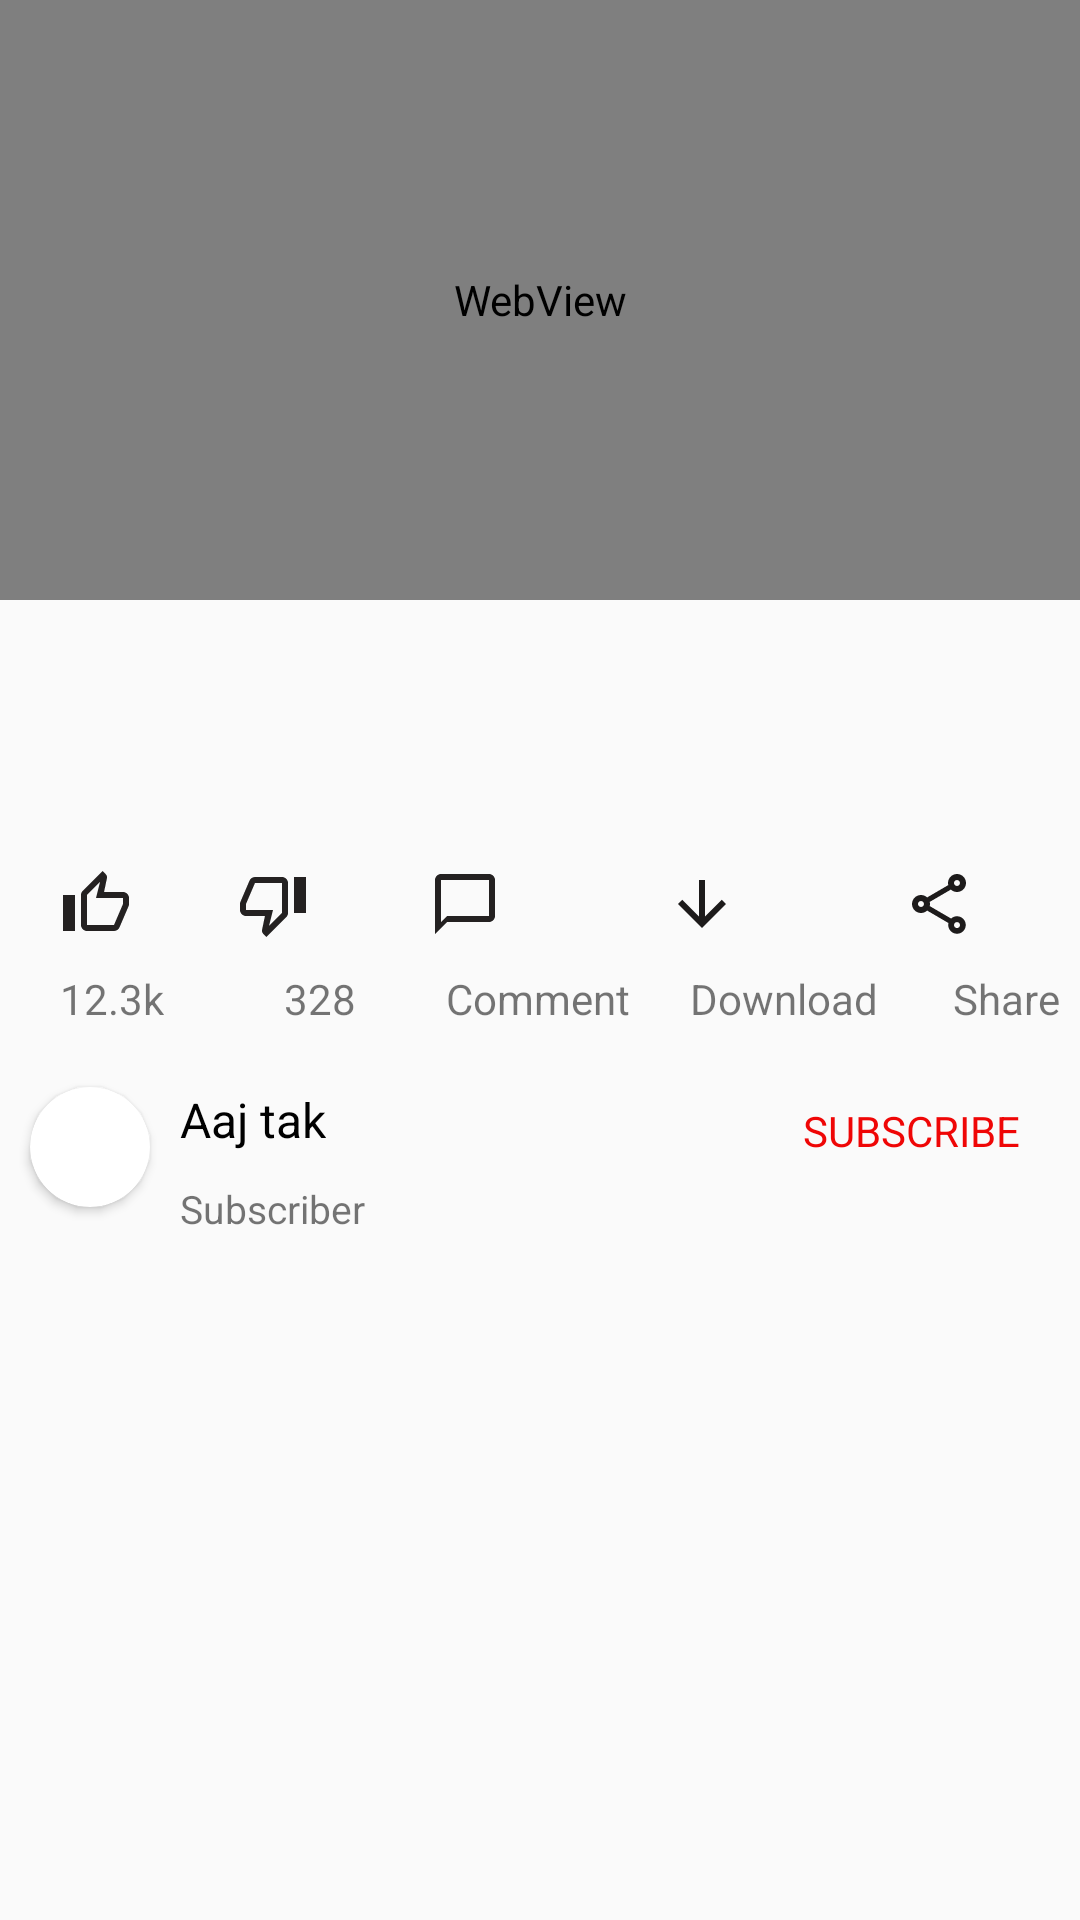

Screen size 1080px×1920px. Icon name, then its box in pixels as BBox(x1, y1, x2, y2):
arrow downward: BBox(678, 880, 726, 928)
chat bubble: BBox(435, 874, 495, 934)
thumb down: BBox(240, 877, 306, 937)
thumb up: BBox(63, 871, 129, 931)
